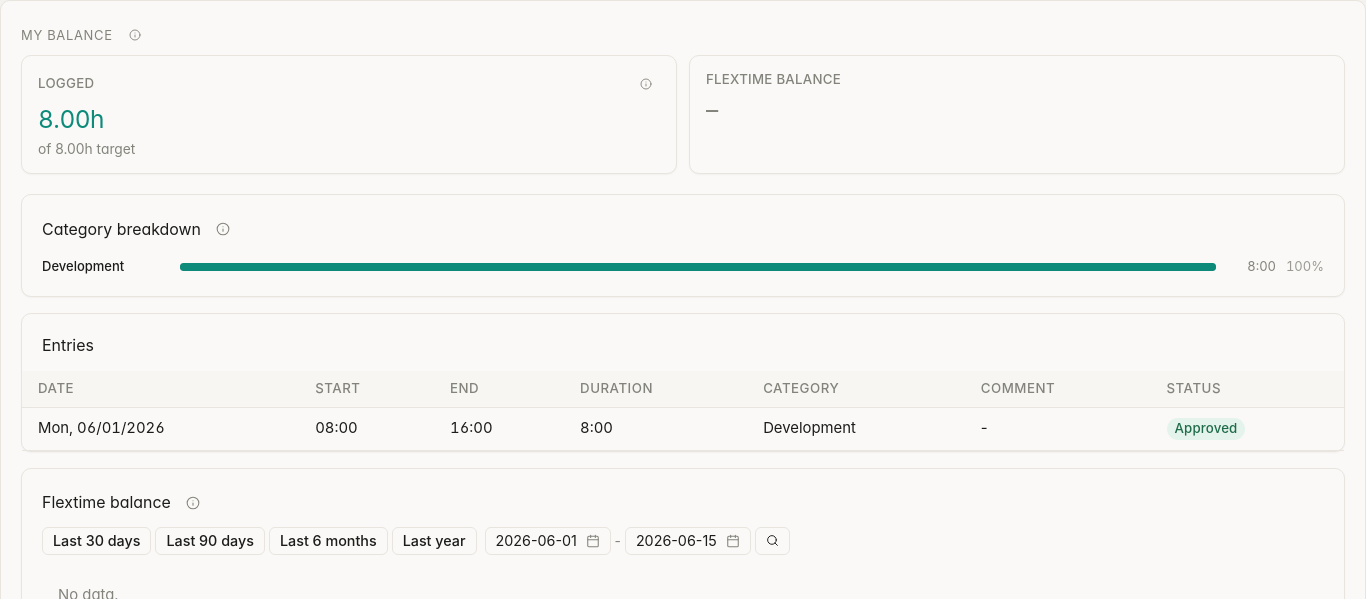
it: PersonReport › discards a stale chart response after the report context changes
What coordinates should you click on to do the following:
click the button "Last 90 days"
I would click on:
 (210, 541)
Its box is [155,527,265,555].
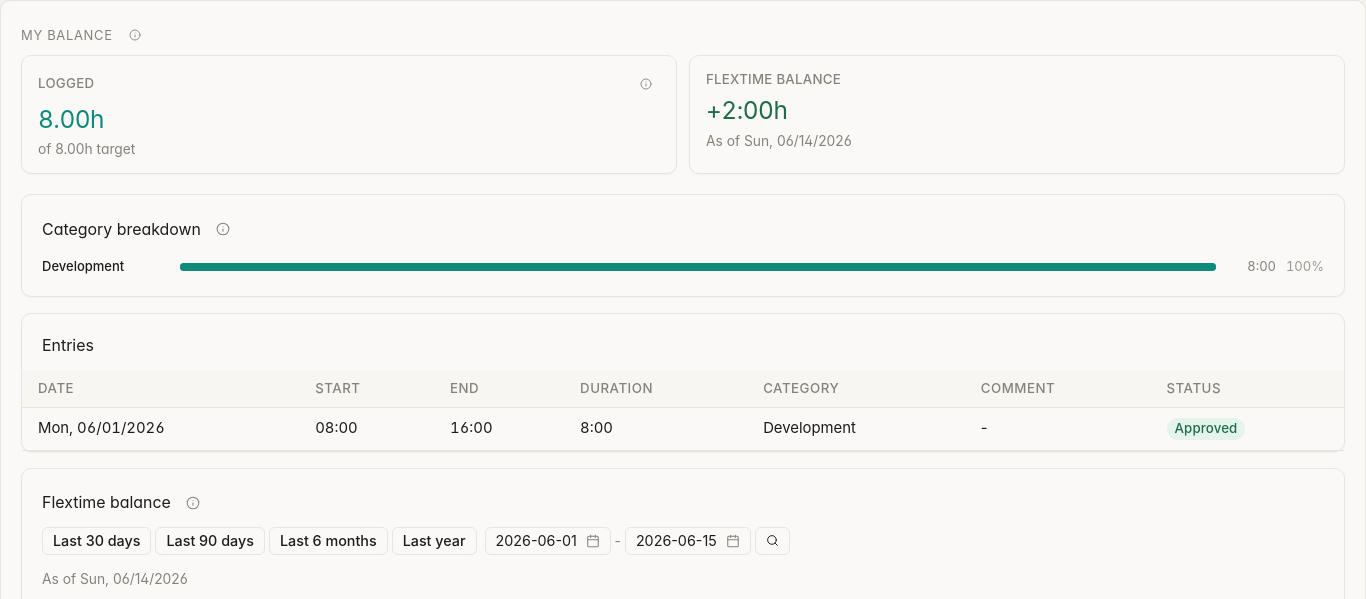
Expected: the text with class "chart-as-of" shows "2026", [42,571,188,587]
